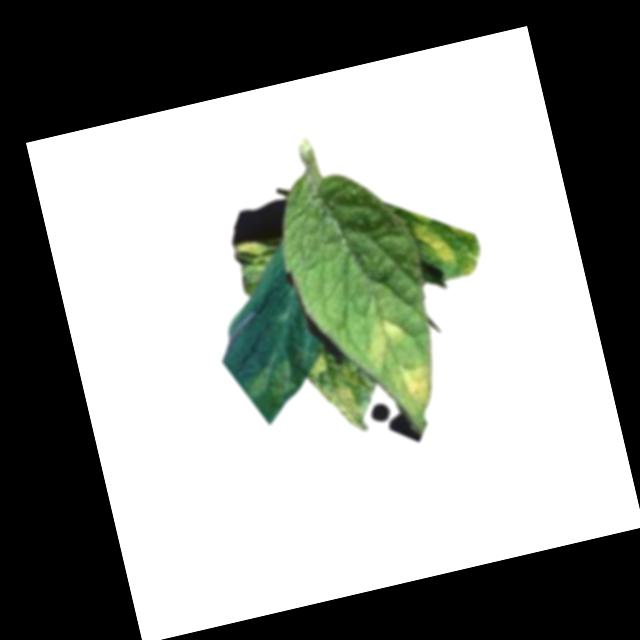Leaf_Mold: (303, 342, 372, 438), (409, 203, 482, 285), (242, 355, 304, 410), (391, 353, 444, 415), (364, 316, 414, 367), (232, 238, 268, 270)
